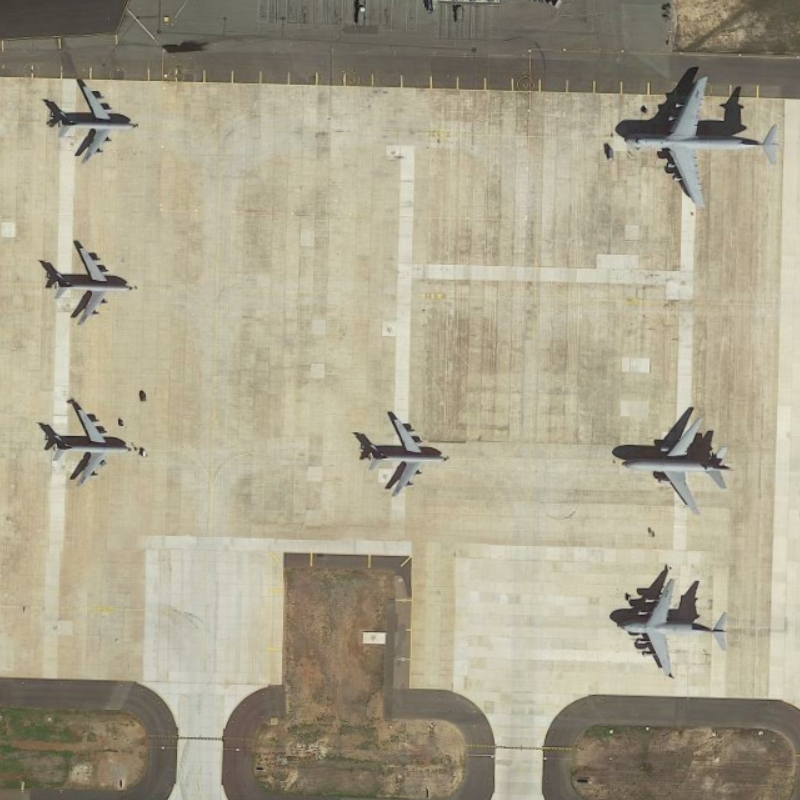A14: (48, 80, 141, 166), (363, 411, 450, 501), (49, 405, 135, 491), (50, 244, 135, 329)
A18: (618, 416, 735, 519)
A3: (616, 576, 733, 683)
A4: (620, 74, 782, 210)
